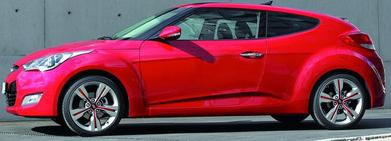backlight: (338, 23, 381, 59)
headlight: (27, 45, 90, 72)
side_glass: (156, 5, 271, 40)
